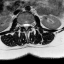CCS_normal: (25, 21, 27, 32)
LFS_normal: (30, 20, 32, 29)
LLS_normal: (27, 20, 30, 29)
RFS_normal: (20, 20, 22, 29)
RLS_normal: (22, 21, 25, 30)
